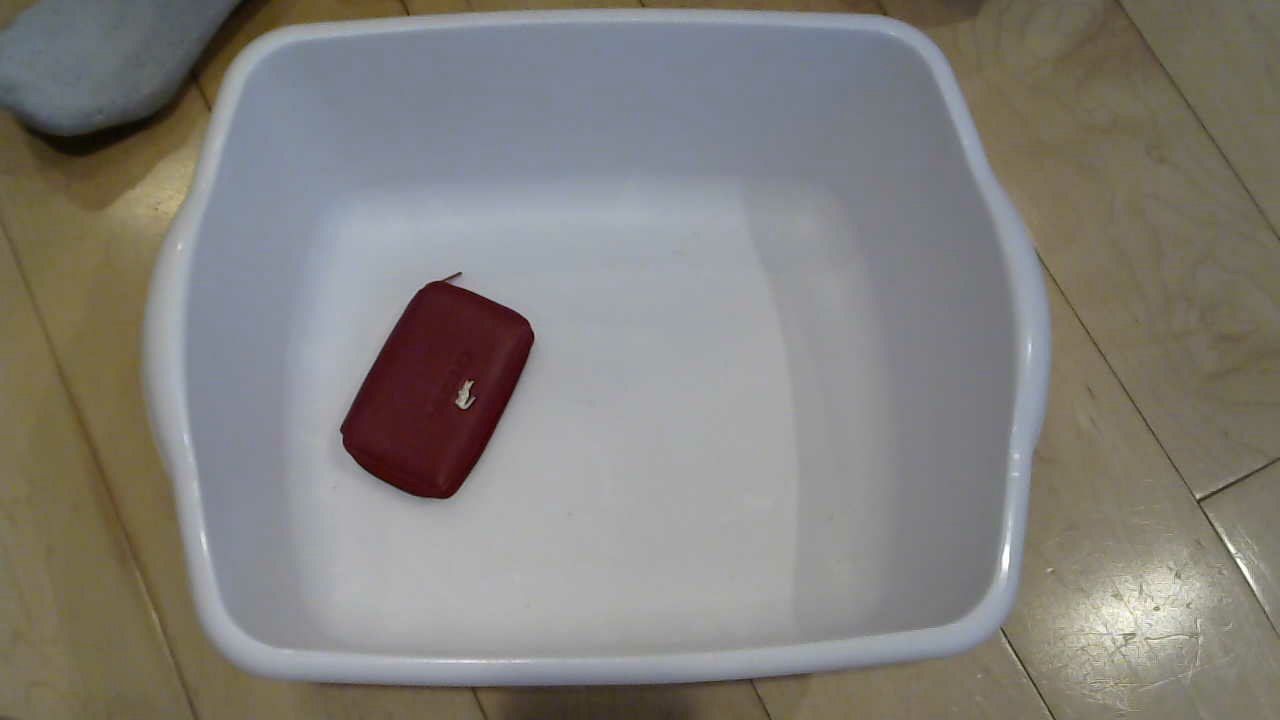wallet: (330, 265, 566, 505)
